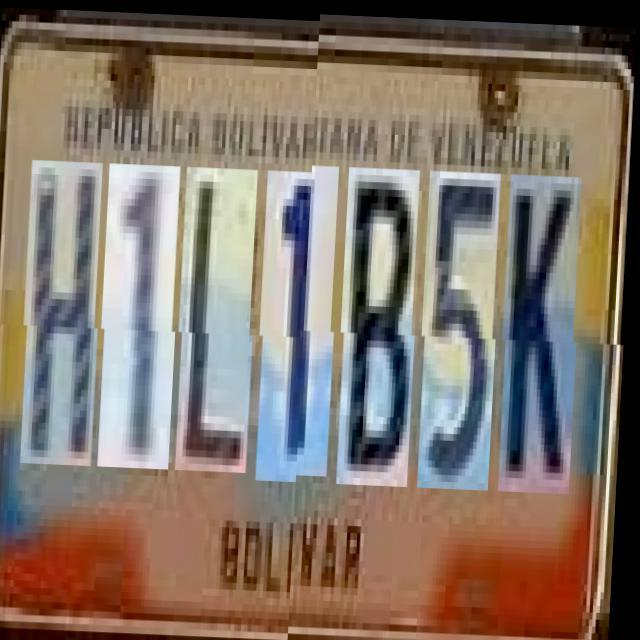1: (260, 168, 344, 480), (102, 162, 186, 468)
5: (422, 173, 505, 492)
B: (342, 171, 424, 490)
H: (25, 160, 108, 465)
K: (503, 177, 586, 496)
L: (180, 165, 263, 470)
